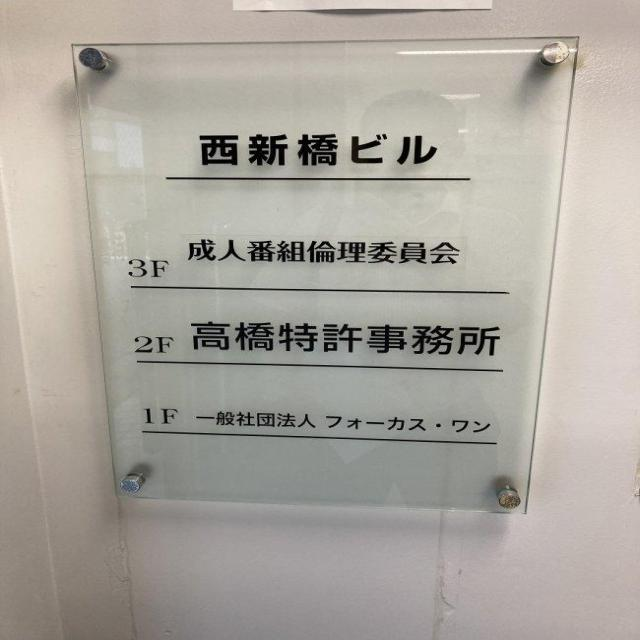building: (183, 127, 448, 174)
facility: (185, 313, 520, 363), (183, 229, 471, 275), (191, 404, 504, 437)
floor: (118, 251, 175, 284), (126, 330, 179, 358), (136, 401, 184, 428)
